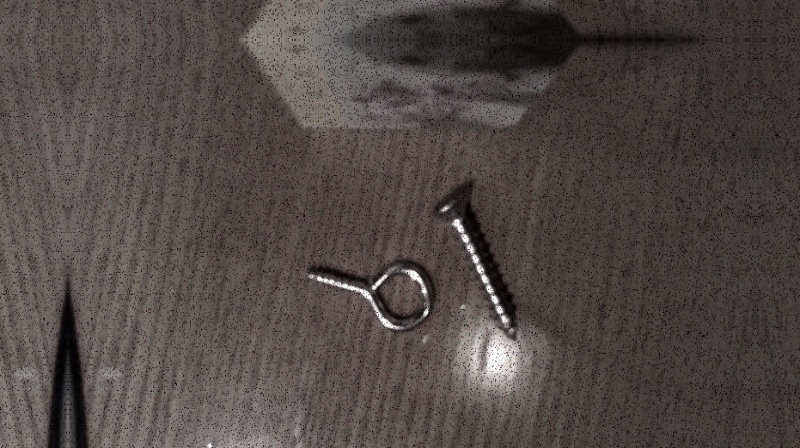O001: (302, 259, 438, 335)
S001: (427, 180, 523, 342)
